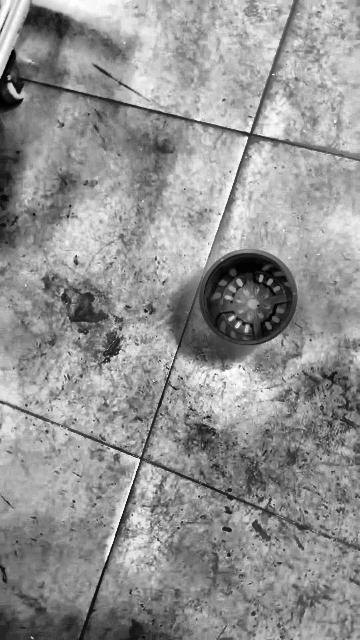pot: (198, 249, 297, 345)
